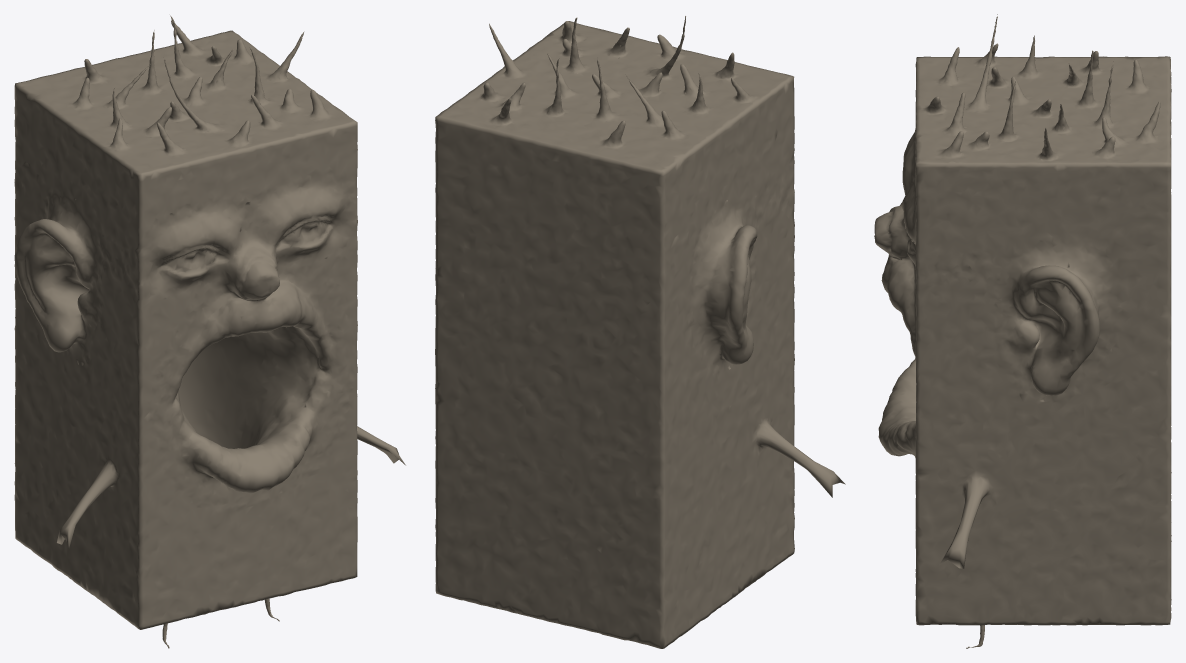
File: blockhead.glb
The picture shows the model from 3 angles, left to right: view 1: azimuth 30°, elevation 25°; view 2: azimuth 150°, elevation 25°; view 3: azimuth 270°, elevation 25°; orthographic projection. The views are drawn at different scales.
Visible parts, largest first — view 1: 3DPrint; view 2: 3DPrint; view 3: 3DPrint.
Part boxes in pixels (left/top/right/bottom): 3DPrint: left=14, top=15, right=405, bottom=648; 3DPrint: left=435, top=16, right=845, bottom=648; 3DPrint: left=874, top=14, right=1171, bottom=648.
Size of the model in its own units: 1.73 by 2.83 by 1.3.
